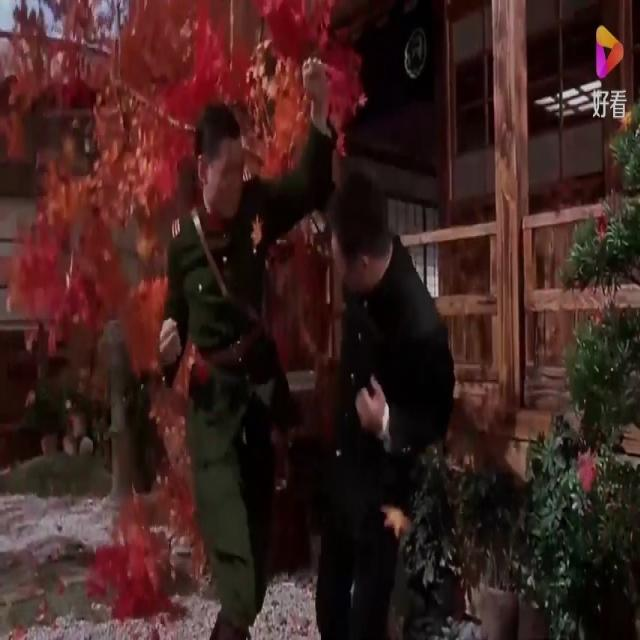fight: (134, 74, 467, 638)
